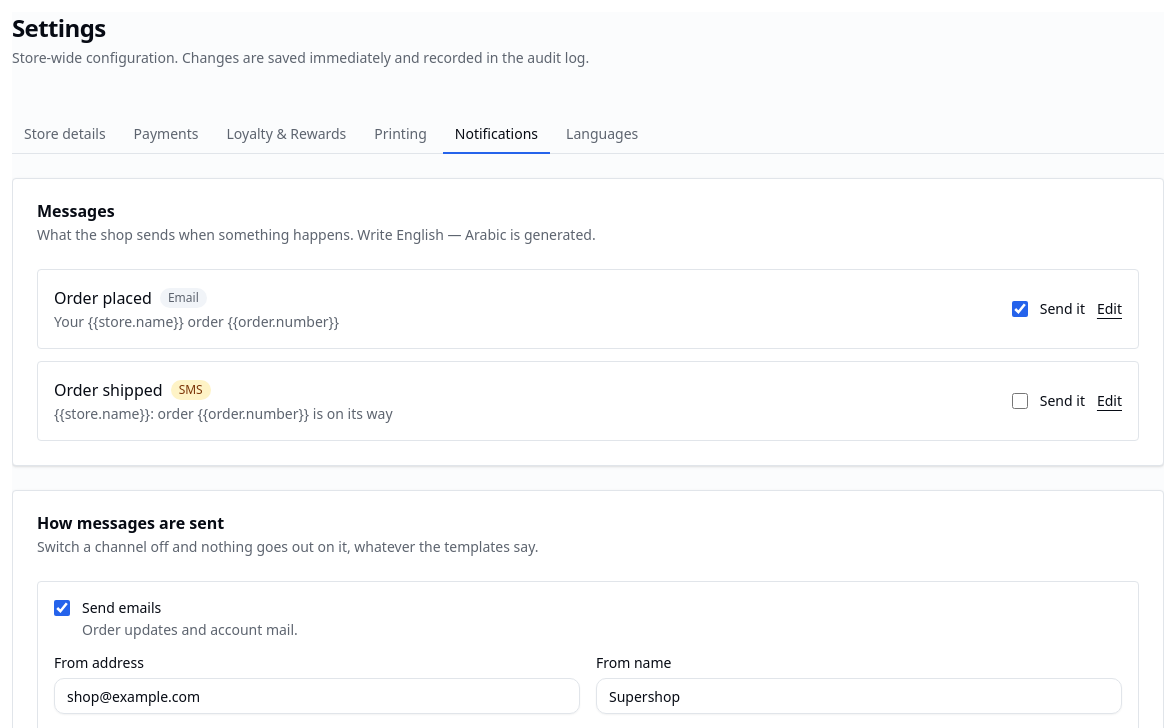
Settings → Notifications › shows the generated Arabic read-only beside the English a staff member edits
Click the 1st button "Edit". click: x=1109, y=309
box: [1097, 299, 1122, 319]
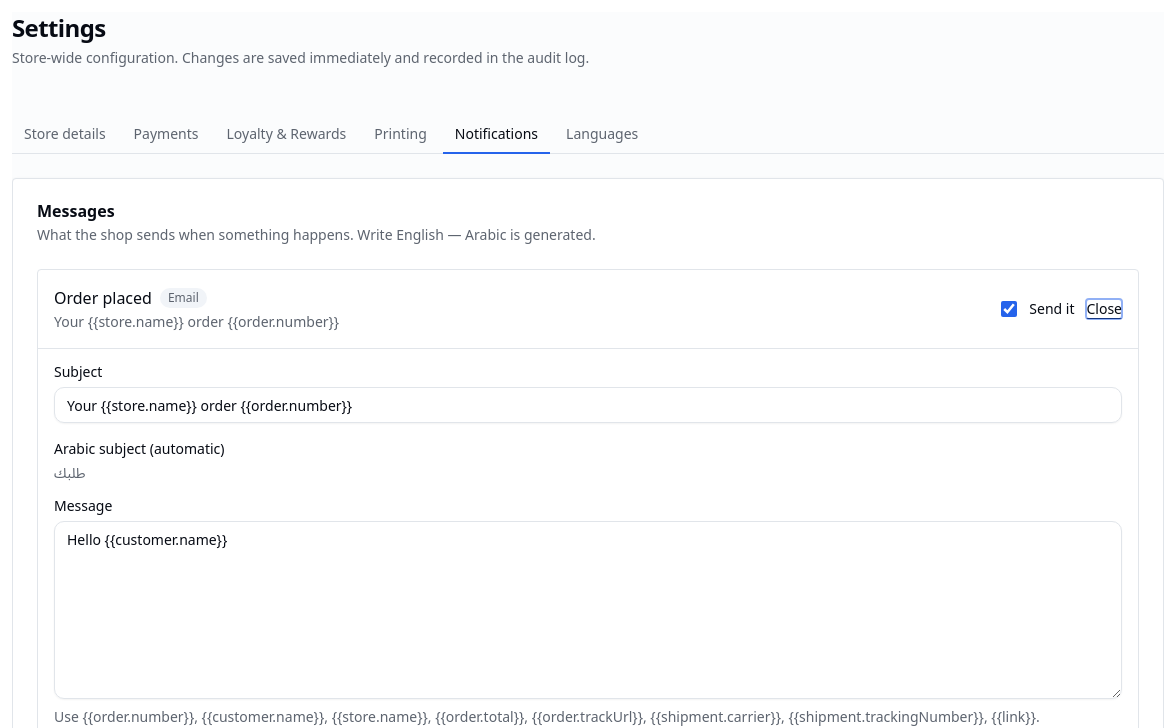
Expected: the field labelled "Subject" holds "Your {{store.name}} order {{order.number}}", [54, 387, 1122, 423]
